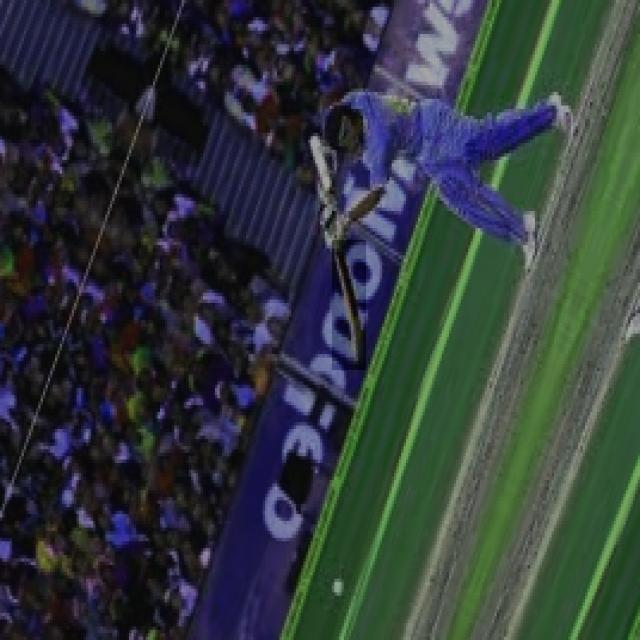bat: (321, 240, 373, 377)
toe: (326, 348, 376, 374)
